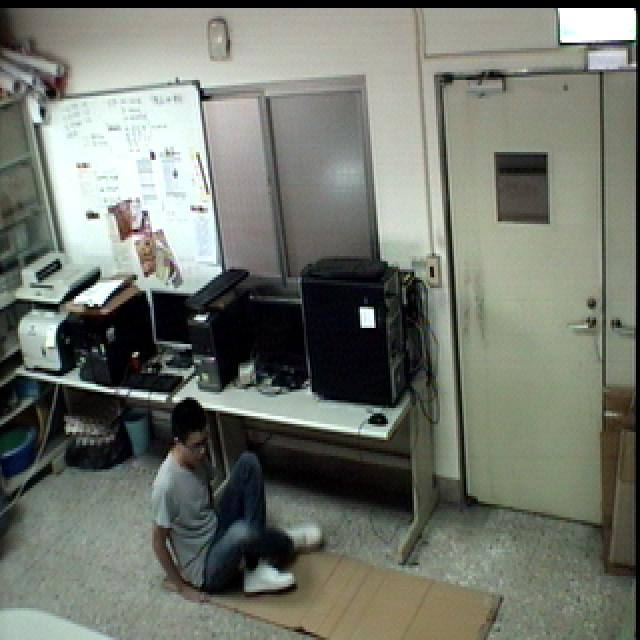sit: (149, 393, 327, 610)
